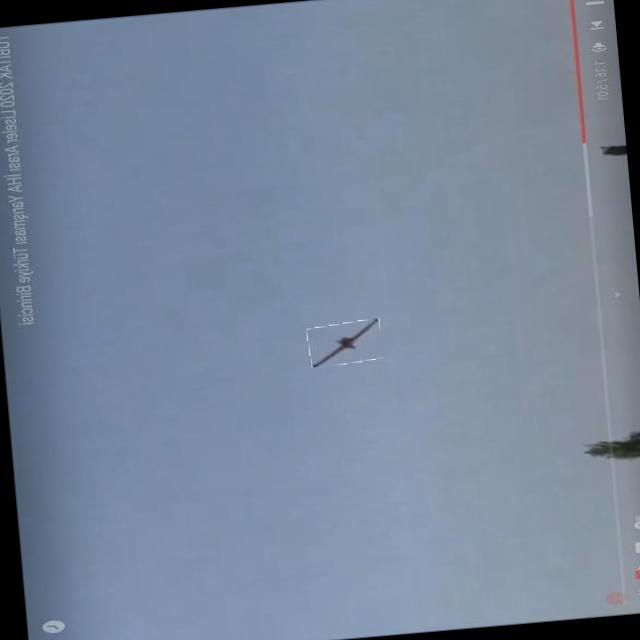UAV: (301, 297, 399, 368)
